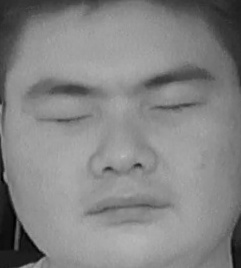blink: (36, 103, 91, 136), (151, 91, 204, 123)
mouth: (86, 184, 174, 228)
